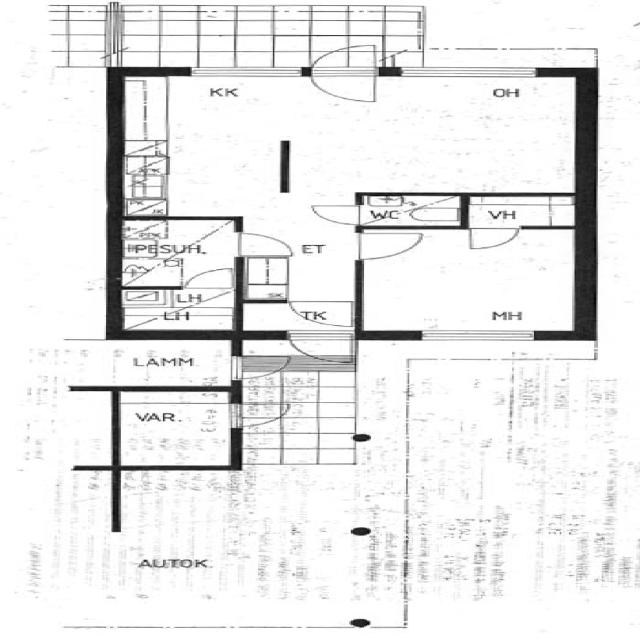door: (112, 388, 241, 468), (302, 42, 389, 105), (350, 193, 464, 239), (348, 228, 429, 262), (285, 331, 357, 362), (251, 351, 332, 378), (231, 230, 302, 259), (288, 299, 355, 327), (224, 354, 292, 381), (460, 225, 526, 252), (306, 203, 378, 226), (227, 402, 286, 430), (180, 266, 240, 291)
window: (388, 63, 551, 81), (171, 62, 315, 82), (409, 326, 552, 343), (100, 530, 136, 572)
zone: (113, 73, 584, 196), (115, 71, 286, 218), (361, 226, 584, 334), (112, 388, 238, 468), (115, 218, 239, 287), (85, 591, 234, 627), (463, 194, 589, 228), (236, 594, 360, 627), (356, 194, 466, 227)
